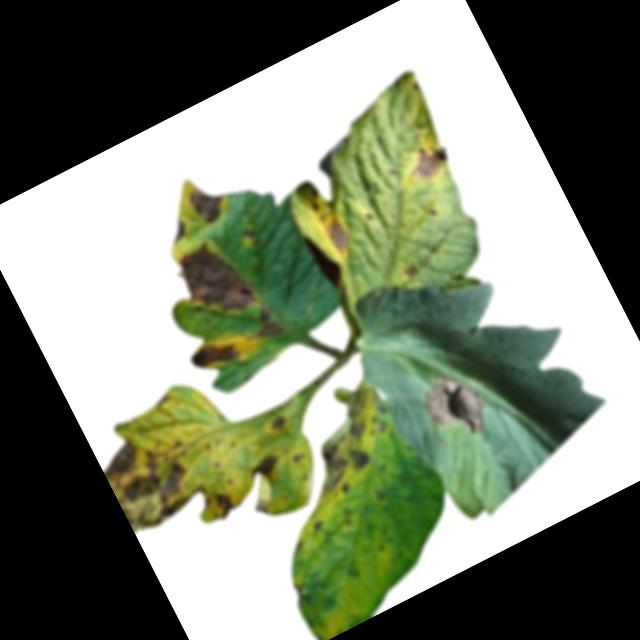Early_blight: (284, 377, 410, 505), (96, 420, 212, 541), (168, 230, 260, 330), (414, 368, 493, 451), (186, 332, 243, 382), (399, 140, 456, 189), (182, 178, 232, 231), (242, 446, 289, 486), (245, 302, 285, 345), (319, 213, 357, 258), (209, 489, 240, 525), (162, 216, 192, 247), (303, 186, 330, 216), (264, 413, 290, 437), (250, 497, 274, 521), (239, 226, 262, 250), (154, 388, 179, 409), (309, 517, 330, 538), (401, 262, 421, 283), (372, 488, 389, 505)
